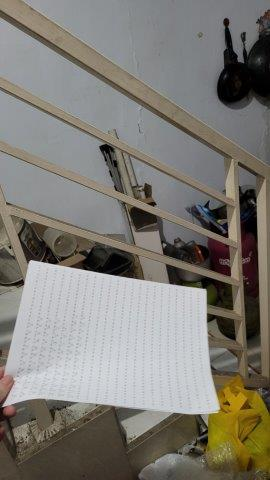kertas: (2, 261, 227, 421)
